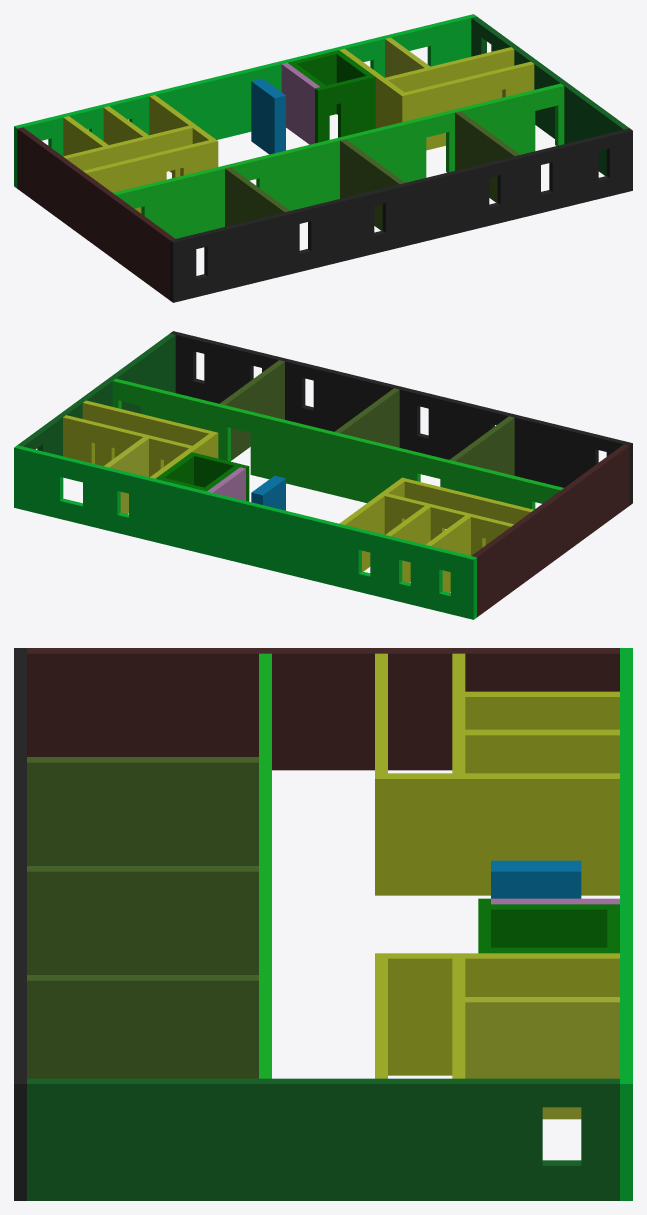
Rendered from convitto_primopiano.gltf.
The picture shows the model from 3 angles, top to bottom: view 1: azimuth 30°, elevation 25°; view 2: azimuth 150°, elevation 25°; view 3: azimuth 270°, elevation 25°; orthographic projection. The views are drawn at different scales.
Parts seen in each view (by area): view 1: Layer.1, Layer.7, Layer.17, Layer.2, Layer.6, Layer.9, Layer.8, Layer.18, Layer.11, Layer.10, Layer.4, Layer.5 (+11 smaller); view 2: Layer.17, Layer.1, Layer.7, Layer.2, Layer.6, Layer.11, Layer.9, Layer.10, Layer.5, Layer.8, Layer.3, Layer.4 (+9 smaller); view 3: Layer.6, Layer.2, Layer.14, Layer.3, Layer.4, Layer.5, Layer.15, Layer.16, Layer.1, Layer.17, Layer.13, Layer.12 (+9 smaller).
Part boxes in pixels (x1,y1,x2,y2): Layer.1: [170, 128, 632, 302]; Layer.7: [113, 83, 564, 238]; Layer.17: [14, 14, 476, 188]; Layer.2: [17, 127, 174, 300]; Layer.6: [471, 16, 629, 175]; Layer.9: [399, 61, 534, 150]; Layer.8: [83, 139, 218, 213]; Layer.18: [315, 74, 375, 143]; Layer.11: [385, 47, 514, 100]; Layer.10: [63, 125, 192, 178]; Layer.4: [340, 139, 404, 230]; Layer.5: [455, 111, 519, 202]; Layer.17: [14, 445, 476, 619]; Layer.1: [170, 331, 632, 505]; Layer.7: [112, 378, 563, 509]; Layer.2: [472, 444, 629, 617]; Layer.6: [17, 333, 175, 456]; Layer.11: [63, 415, 191, 477]; Layer.9: [82, 400, 218, 466]; Layer.10: [384, 493, 513, 555]; Layer.5: [219, 360, 284, 460]; Layer.8: [399, 477, 533, 544]; Layer.3: [449, 416, 514, 475]; Layer.4: [334, 388, 399, 447]; Layer.6: [27, 1078, 619, 1200]; Layer.2: [27, 648, 619, 770]; Layer.14: [388, 773, 619, 895]; Layer.3: [27, 757, 258, 865]; Layer.4: [27, 866, 258, 974]; Layer.5: [27, 975, 258, 1078]; Layer.15: [388, 953, 619, 1075]; Layer.16: [465, 997, 619, 1119]; Layer.1: [14, 648, 26, 1200]; Layer.17: [620, 648, 632, 1200]; Layer.13: [465, 729, 619, 773]; Layer.12: [465, 691, 619, 729].
Bounding box in the file's own units: 80 × 10 × 48.
1 material, 1 textured.
